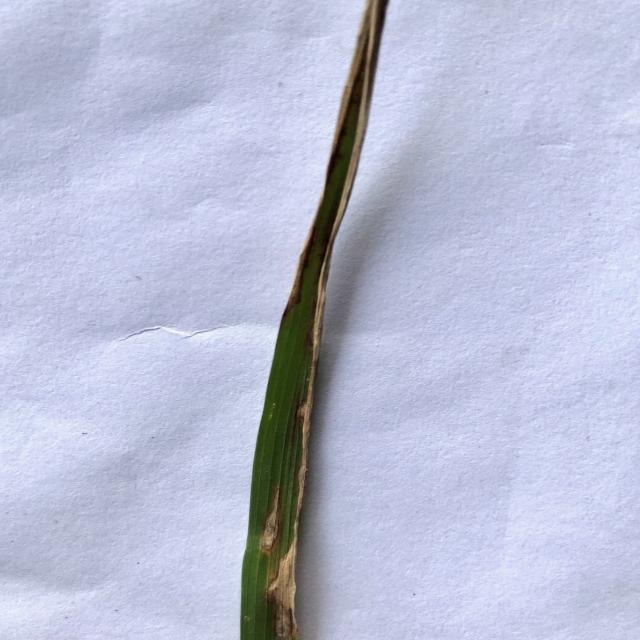leaf blight: (328, 0, 382, 151), (293, 296, 328, 512), (309, 153, 361, 286), (260, 517, 299, 640), (253, 478, 287, 566), (278, 243, 307, 311)
